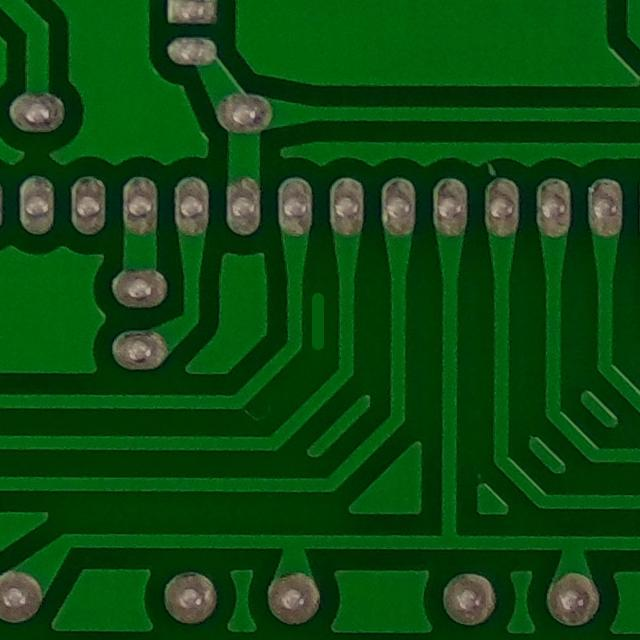spurious_copper: (296, 281, 345, 359)
